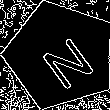N_NW: (28, 23, 93, 87)
